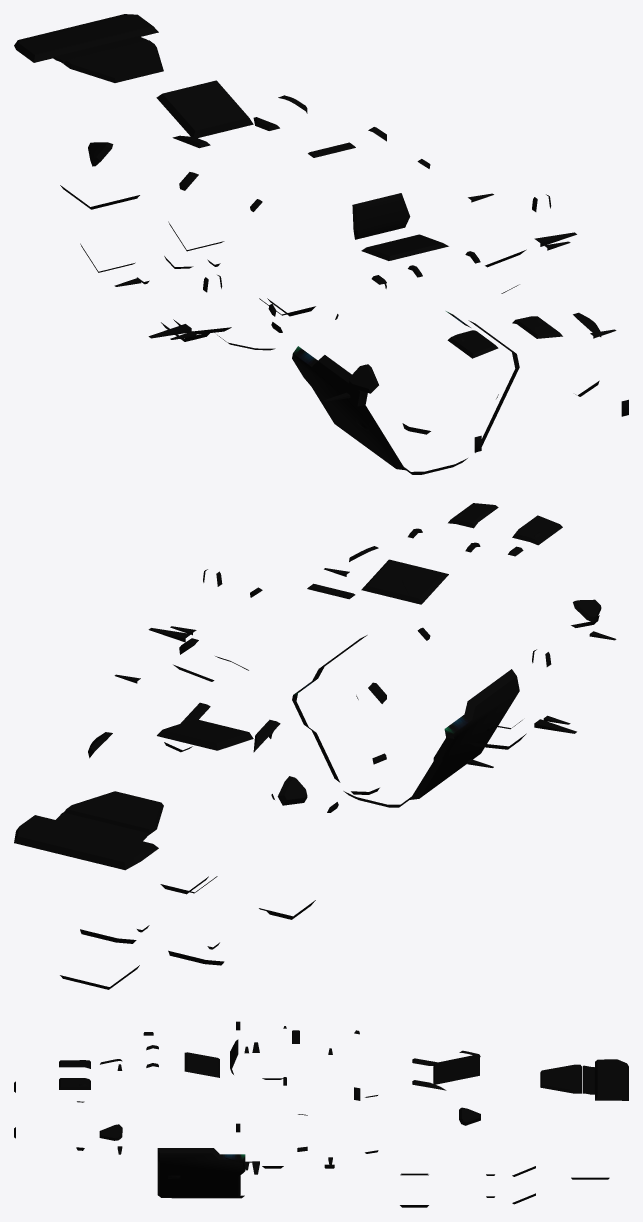
File: hgn_cf_ionc_01_t5.glb
3 renders of one model, top to bottom at view 1: azimuth 30°, elevation 25°; view 2: azimuth 150°, elevation 25°; view 3: azimuth 270°, elevation 25°, orthographic. The views are drawn at different scales.
Parts seen in each view (by area): view 1: hgn_ion_cannon_frigate_01_t5_LOD0; view 2: hgn_ion_cannon_frigate_01_t5_LOD0; view 3: hgn_ion_cannon_frigate_01_t5_LOD0.
Part boxes in pixels (x1,y1,x2,y2): hgn_ion_cannon_frigate_01_t5_LOD0: [14, 14, 628, 474]; hgn_ion_cannon_frigate_01_t5_LOD0: [14, 503, 616, 989]; hgn_ion_cannon_frigate_01_t5_LOD0: [14, 1021, 628, 1207].
Size of what is drawn, in the model's own units: 1.76 by 0.9668 by 3.46.
Materials: 1 (1 with a texture image).
